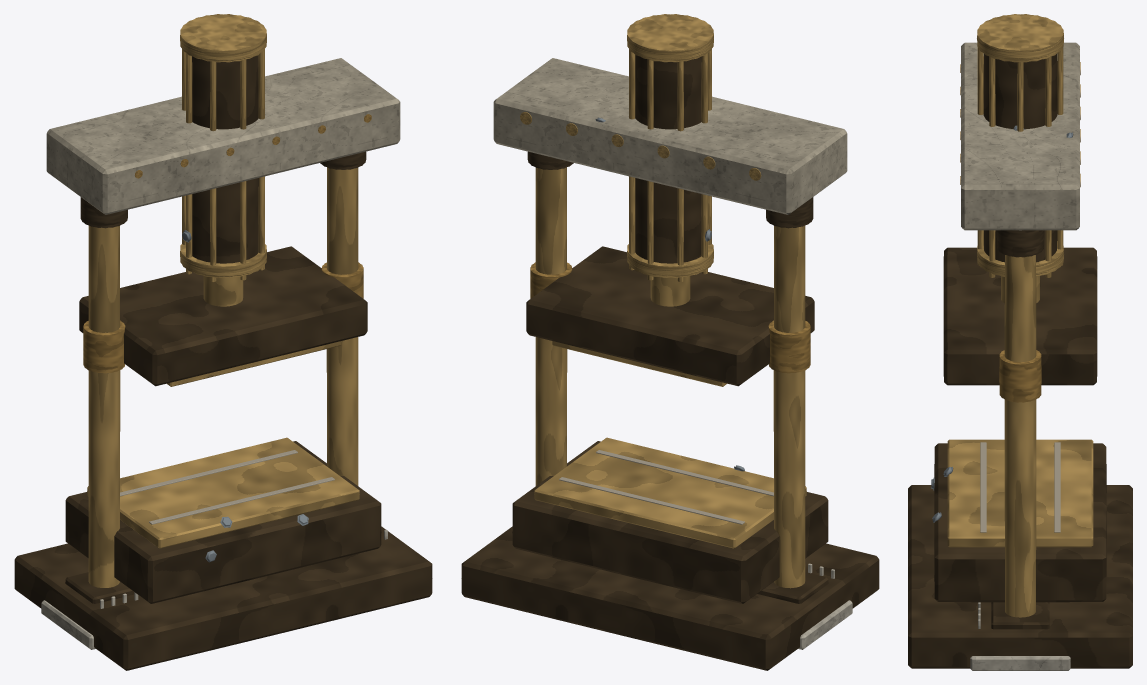
The picture shows the model from 3 angles, left to right: view 1: azimuth 30°, elevation 25°; view 2: azimuth 150°, elevation 25°; view 3: azimuth 270°, elevation 25°; orthographic projection.
Visible parts, largest first — view 1: dark-patinated-bronze-fittings (×2), polished-bronze-bearing (×2), honed-limestone, aged-bronze, mortar-joint-recess, carved-limestone-mouldings; view 2: dark-patinated-bronze-fittings (×2), polished-bronze-bearing (×2), honed-limestone, aged-bronze, mortar-joint-recess, carved-limestone-mouldings; view 3: dark-patinated-bronze-fittings (×2), polished-bronze-bearing, honed-limestone, aged-bronze, carved-limestone-mouldings, mortar-joint-recess.
Part boxes in pixels (left/top/right/bottom): dark-patinated-bronze-fittings (×2): left=14, top=55, right=432, bottom=670; polished-bronze-bearing (×2): left=87, top=14, right=359, bottom=587; honed-limestone: left=46, top=58, right=400, bottom=214; aged-bronze: left=83, top=262, right=363, bottom=373; mortar-joint-recess: left=120, top=450, right=334, bottom=524; carved-limestone-mouldings: left=41, top=530, right=387, bottom=649; dark-patinated-bronze-fittings (×2): left=461, top=55, right=879, bottom=670; polished-bronze-bearing (×2): left=520, top=14, right=806, bottom=588; honed-limestone: left=493, top=58, right=847, bottom=214; aged-bronze: left=530, top=262, right=810, bottom=373; mortar-joint-recess: left=559, top=450, right=773, bottom=524; carved-limestone-mouldings: left=798, top=563, right=852, bottom=649; dark-patinated-bronze-fittings (×2): left=908, top=54, right=1132, bottom=668; polished-bronze-bearing: left=947, top=14, right=1093, bottom=617; honed-limestone: left=961, top=42, right=1079, bottom=230; aged-bronze: left=999, top=350, right=1041, bottom=402; carved-limestone-mouldings: left=970, top=602, right=1070, bottom=670; mortar-joint-recess: left=980, top=442, right=1060, bottom=532.
Size of the model in its own units: 1.38 by 2.35 by 0.85.
7 materials, 5 textured.
